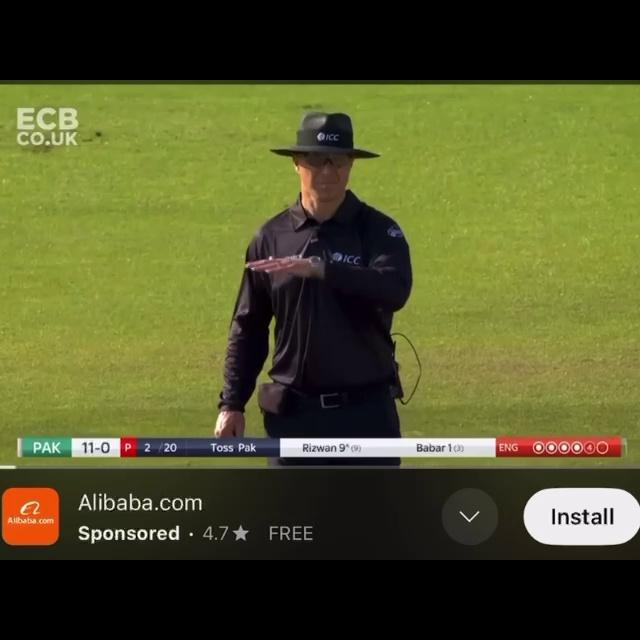umpire: (188, 108, 533, 438)
